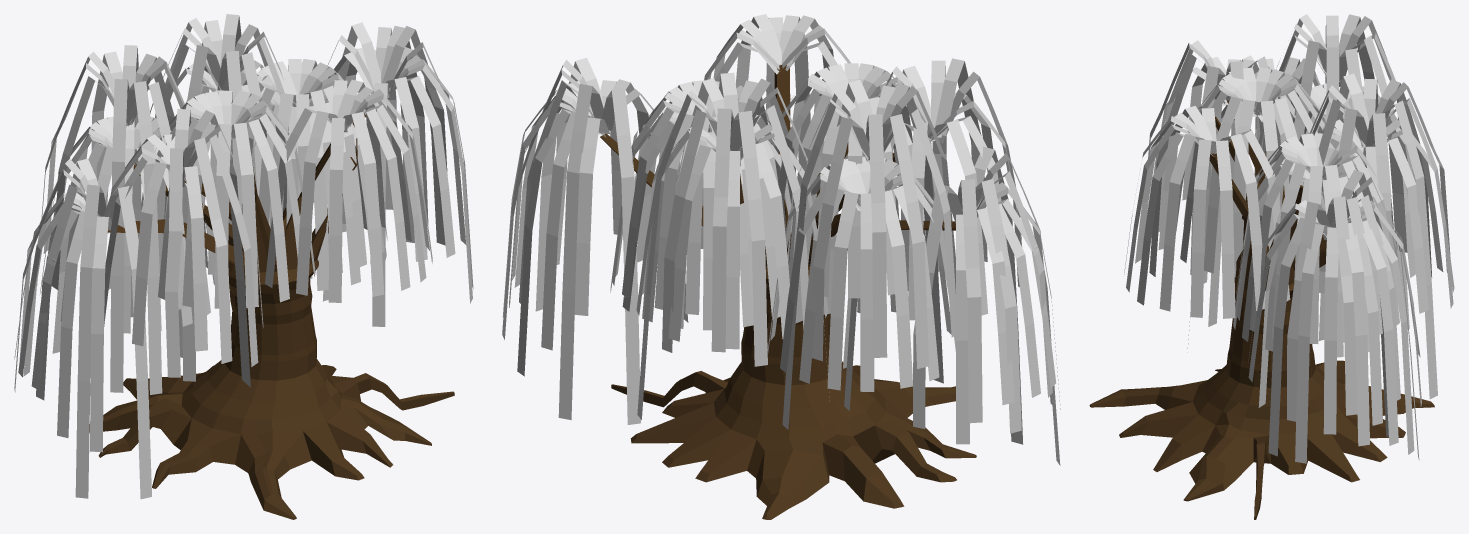
Rendered from yggrasil-2.fbx.
3 renders of one model, left to right at view 1: azimuth 30°, elevation 25°; view 2: azimuth 150°, elevation 25°; view 3: azimuth 270°, elevation 25°, orthographic. The views are drawn at different scales.
Visible parts, largest first — view 1: yggrasil, folha.123, folha.143, folha.142, folha.124, folha.116, folha.012, folha.117, folha.011, folha.016, folha.007, folha.017 (+62 smaller); view 2: yggrasil, folha.129, folha.130, folha.107, folha.120, folha.146, folha.108, folha.147, folha.145, folha.119, folha.027, folha.028 (+67 smaller); view 3: yggrasil, folha.035, folha.126, folha.033, folha.032, folha.132, folha.125, folha.127, folha.036, folha.019, folha.024, folha.034 (+61 smaller).
Boxes of the visible parts, x1,y1,x2,y2 form: yggrasil: (89,113,454,519); folha.123: (75,184,106,498); folha.143: (110,79,129,392); folha.142: (126,81,162,394); folha.124: (103,186,151,499); folha.116: (165,148,184,377); folha.012: (90,216,111,452); folha.117: (183,137,232,363); folha.011: (57,211,100,437); folha.016: (328,118,347,302); folha.007: (183,166,207,351); folha.017: (343,112,384,296); yggrasil: (600,65,976,519); folha.129: (558,84,609,420); folha.130: (602,88,640,424); folha.107: (730,110,767,366); folha.120: (955,179,982,423); folha.146: (864,114,887,357); folha.108: (711,108,733,352); folha.147: (868,114,928,368); folha.145: (812,117,869,361); folha.119: (975,179,1021,433); folha.027: (574,117,609,315); folha.028: (541,111,593,350); yggrasil: (1089,100,1434,519); folha.035: (1295,224,1330,463); folha.126: (1323,196,1357,415); folha.033: (1345,222,1369,446); folha.032: (1323,227,1338,434); folha.132: (1383,100,1437,398); folha.125: (1326,197,1382,425); folha.127: (1287,201,1330,421); folha.036: (1268,217,1320,456); folha.019: (1190,139,1216,317); folha.024: (1214,140,1235,318); folha.034: (1362,220,1398,445).
Size of the model in its own units: 944 by 741 by 667.
